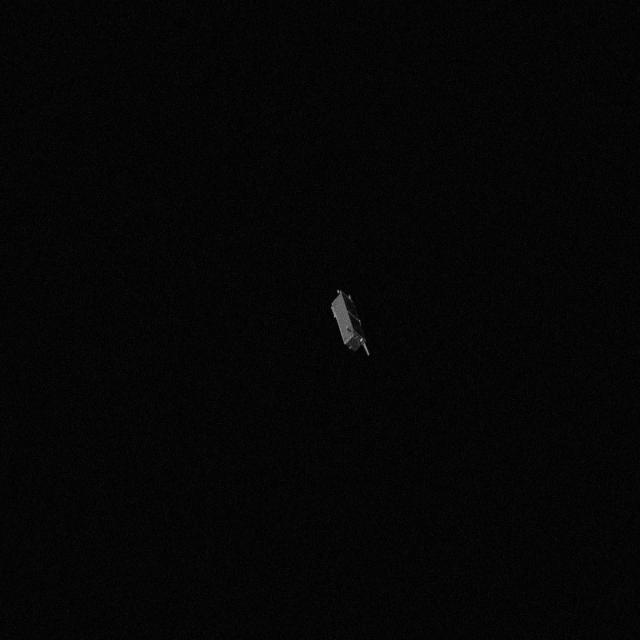satellite: (328, 286, 378, 364)
